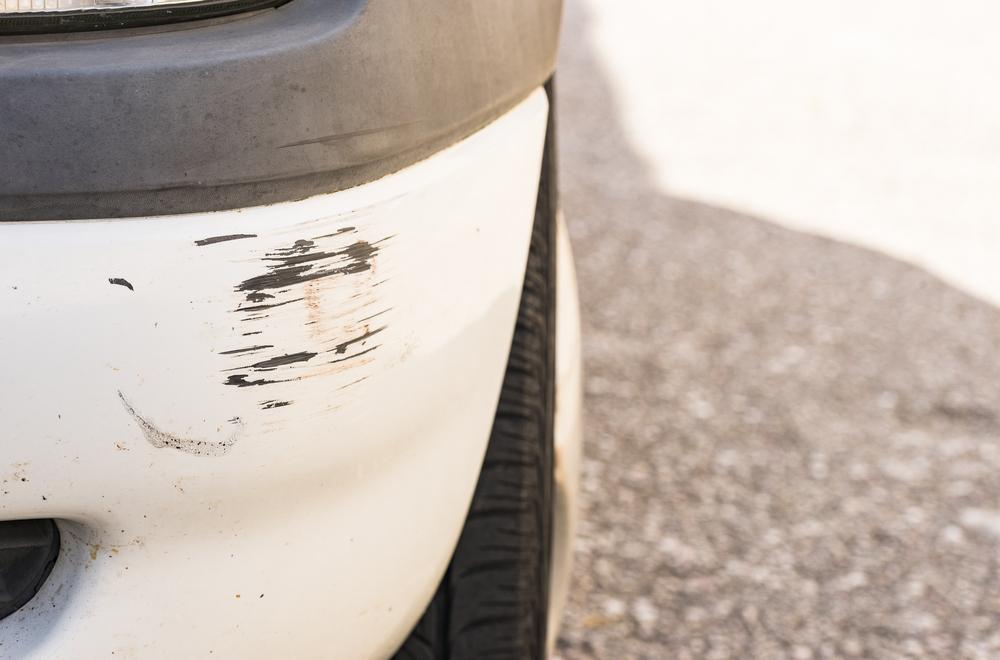scratch: (107, 211, 402, 463)
